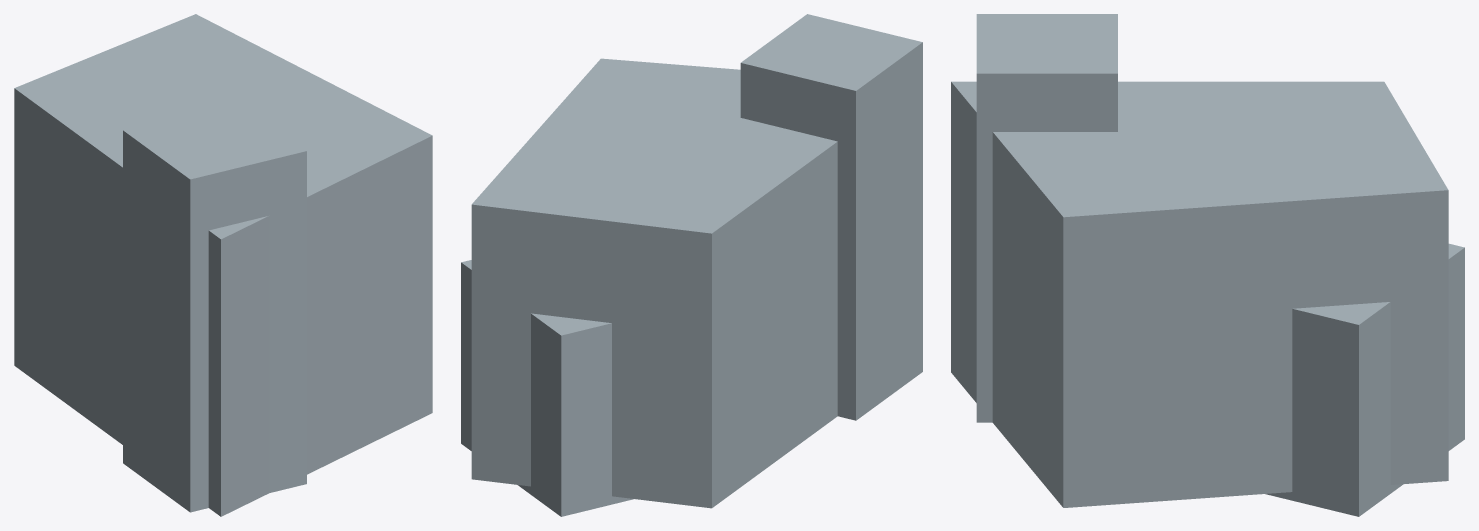
The model's file is Rock_13.fbx.
The picture shows the model from 3 angles, left to right: view 1: azimuth 30°, elevation 25°; view 2: azimuth 150°, elevation 25°; view 3: azimuth 270°, elevation 25°; orthographic projection. The views are drawn at different scales.
Parts seen in each view (by area): view 1: Cube.001; view 2: Cube.001; view 3: Cube.001.
Part boxes in pixels (x1=…): Cube.001: x1=14, y1=14, x2=432, y2=516; Cube.001: x1=461, y1=14, x2=922, y2=516; Cube.001: x1=951, y1=14, x2=1464, y2=516.
Size of the model in its own units: 2.14 by 2.46 by 3.2.
